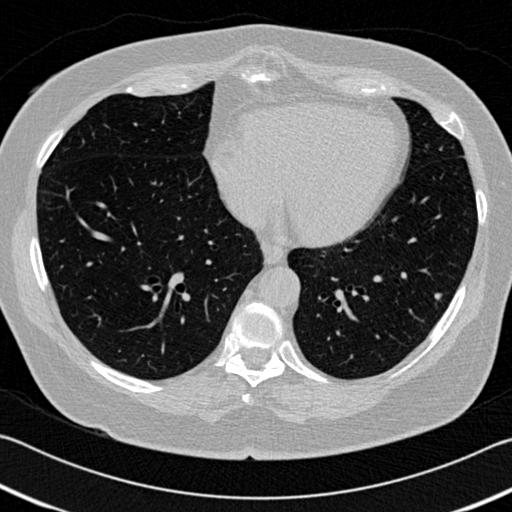nodule: (431, 290, 443, 302)
